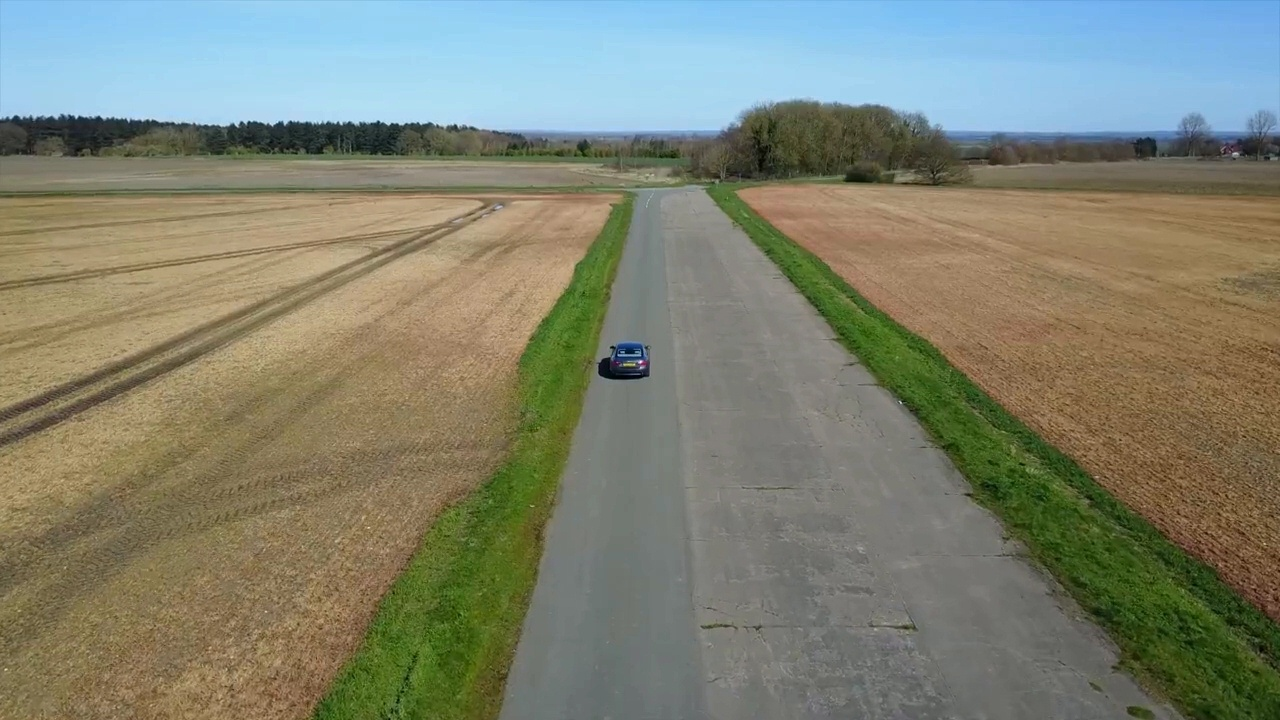araba: (601, 336, 654, 379)
